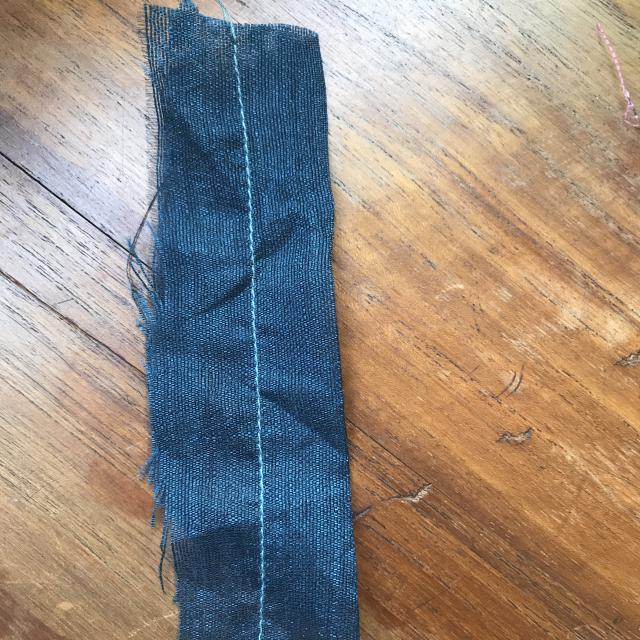good: (242, 306, 278, 474), (235, 130, 266, 267)
